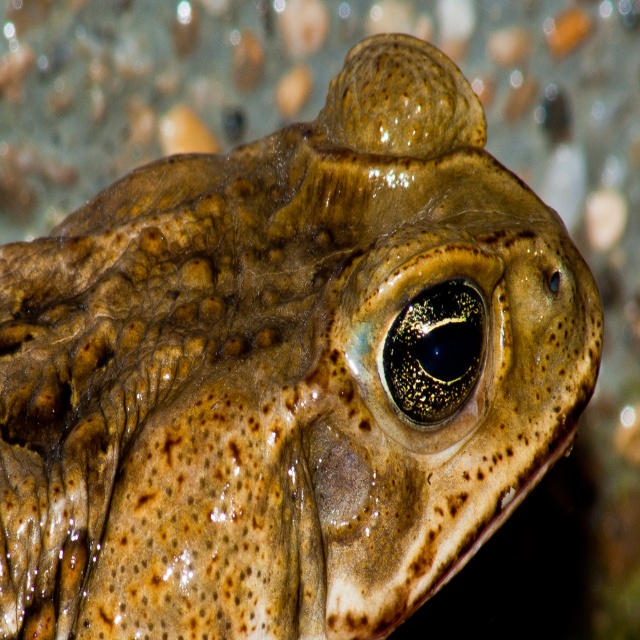Frog: (0, 31, 605, 639)
